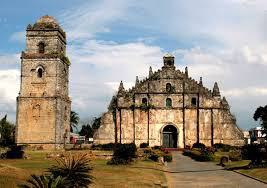paoay_church_paoay_ilocos_norte: (13, 12, 250, 150)
